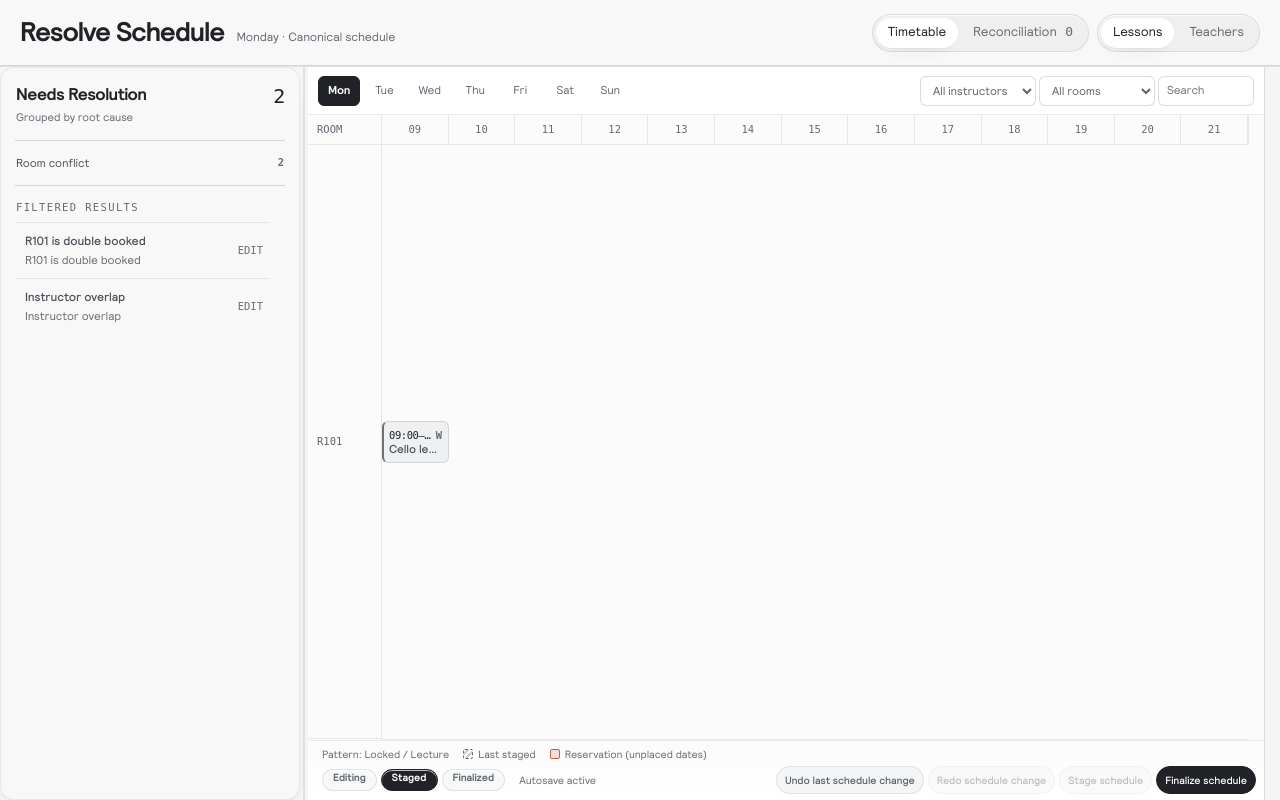
it: finalize schedule › traps focus and restores it when cancel closes the irreversible dialog
Click the button "Finalize schedule" at [1206, 780], box [1156,766,1256,794]
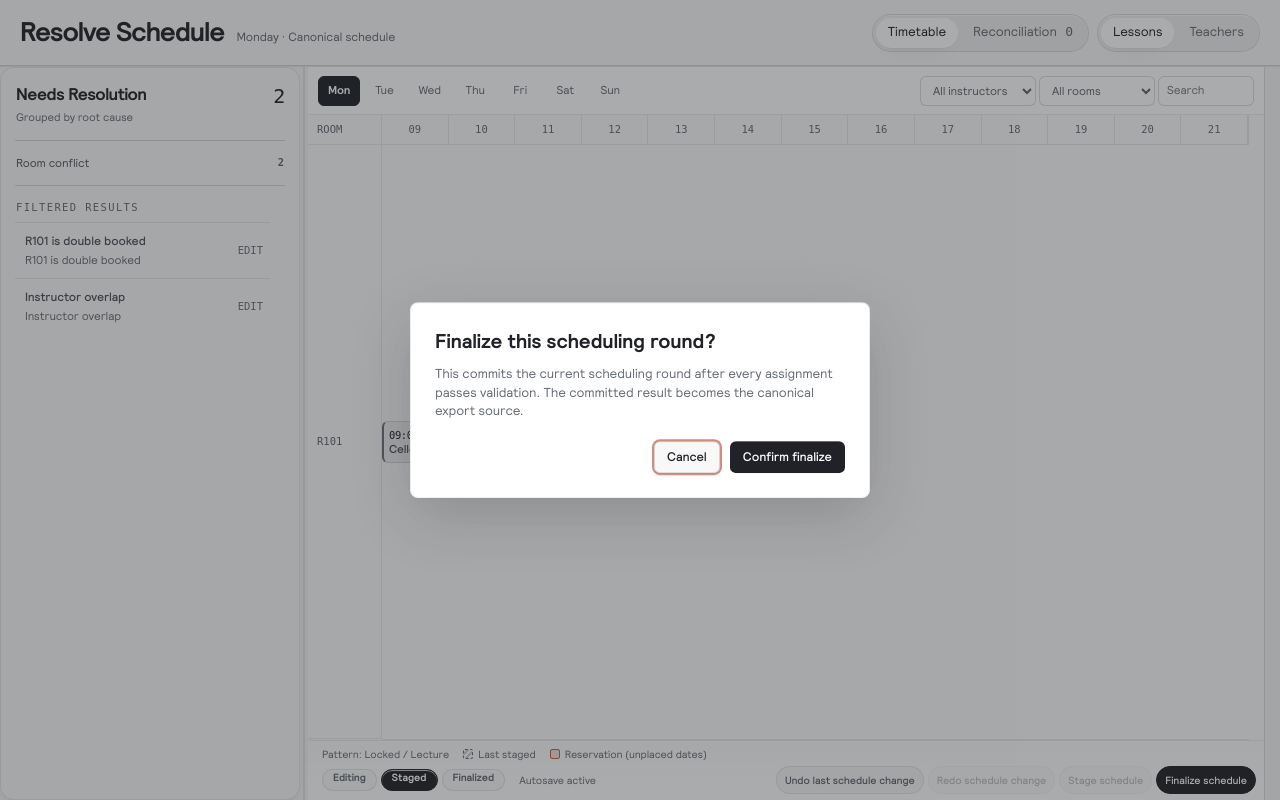
Check: the dialog shows "commits the current scheduling round", box [435,366,833,418]
Press Tab
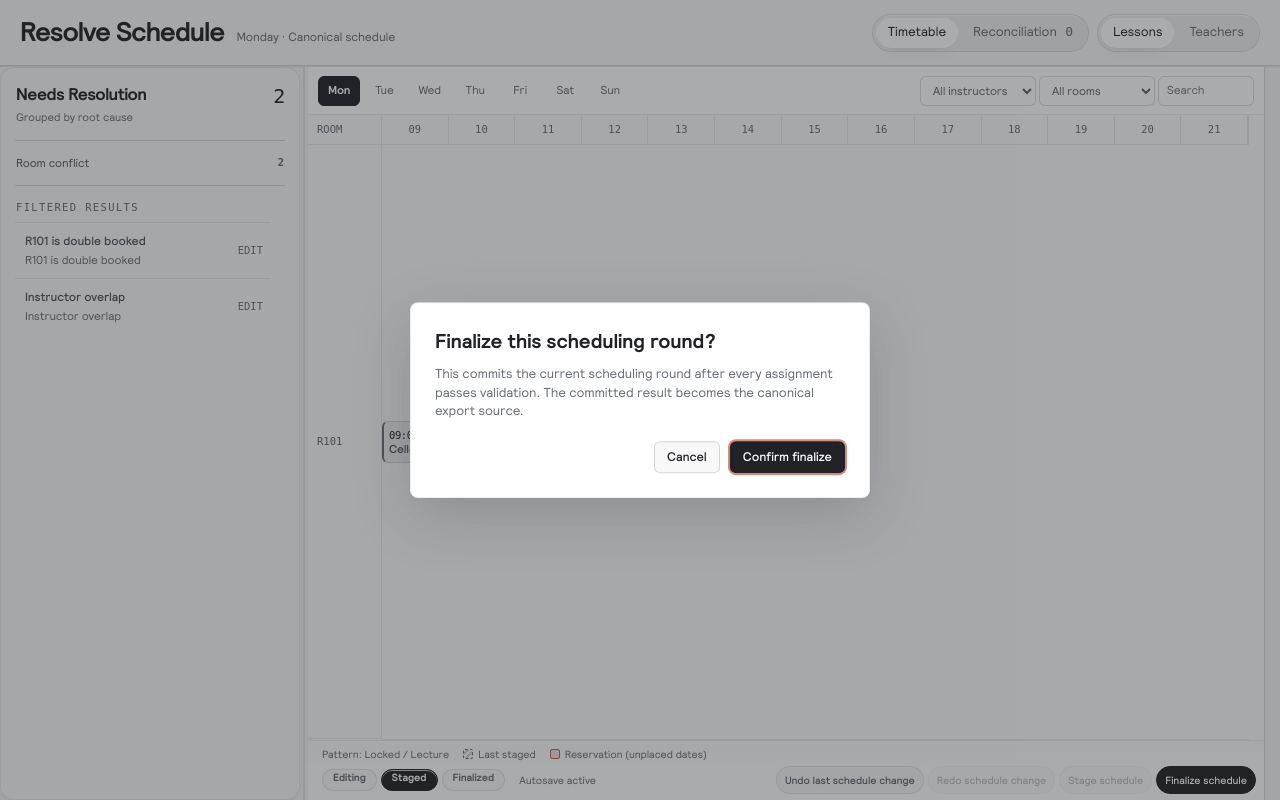
Press Tab
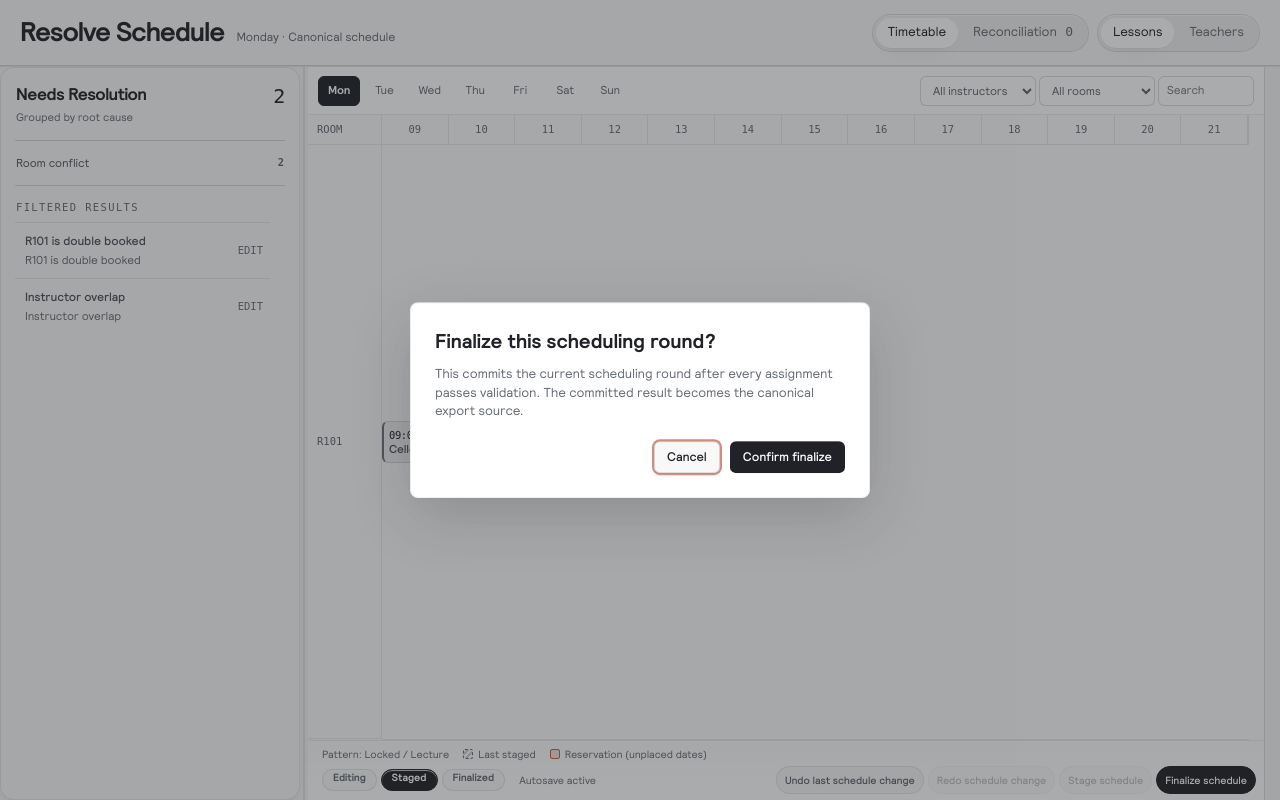
Click the button "Cancel" at [687, 457], box [654,441,720,473]
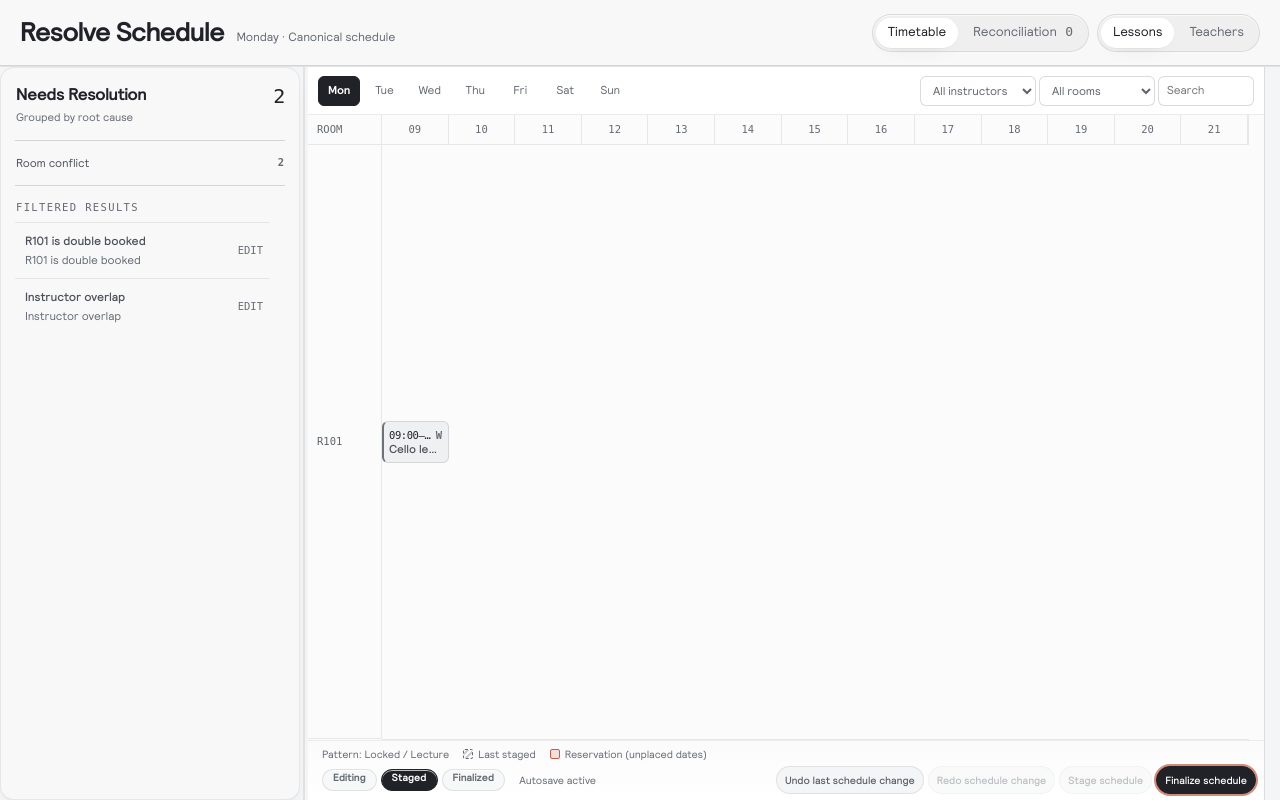
Check: the dialog is gone
